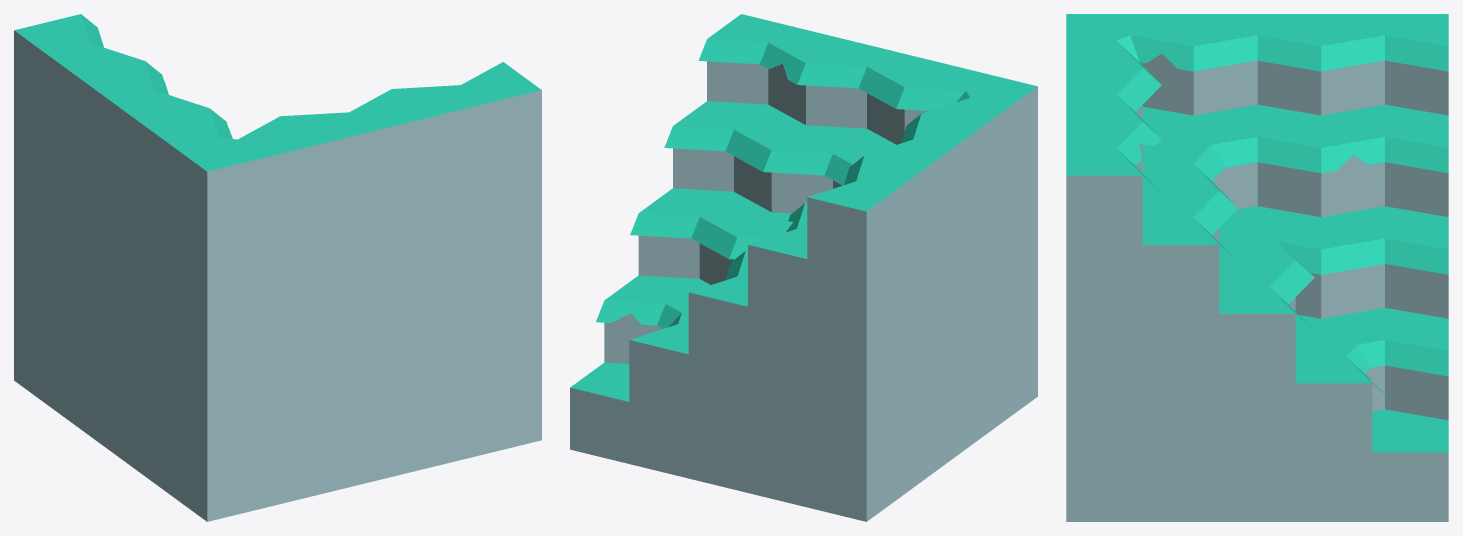
Rendered from cliff_stepsCornerInner_stone.glb.
3 views of the same model, side by side, from view 1: azimuth 30°, elevation 25°; view 2: azimuth 150°, elevation 25°; view 3: azimuth 270°, elevation 25° (orthographic). The views are drawn at different scales.
Visible parts, largest first — view 1: cliff_stepsCornerInner_stone; view 2: cliff_stepsCornerInner_stone; view 3: cliff_stepsCornerInner_stone.
Part boxes in pixels (<box>): cliff_stepsCornerInner_stone: <box>14,14,541,521</box>; cliff_stepsCornerInner_stone: <box>570,14,1037,521</box>; cliff_stepsCornerInner_stone: <box>1066,14,1448,521</box>.
Bounding box in the file's own units: 1 × 1 × 1.
